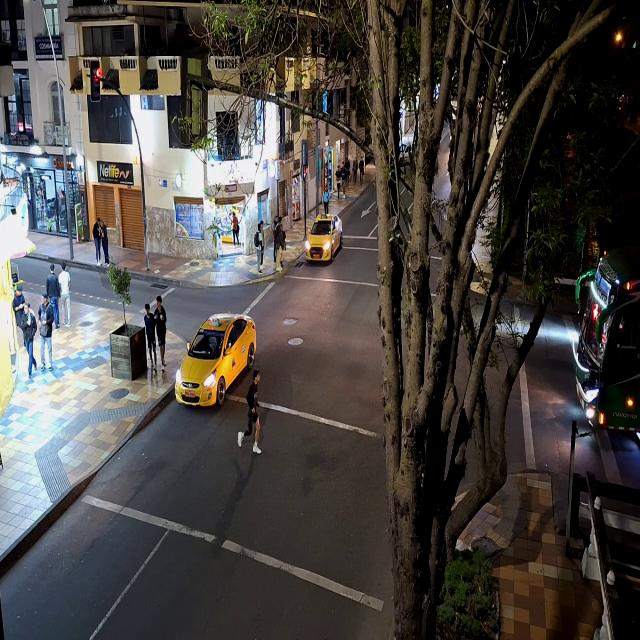BUS: (578, 246, 640, 445)
SED: (178, 314, 253, 406), (310, 214, 343, 260)
